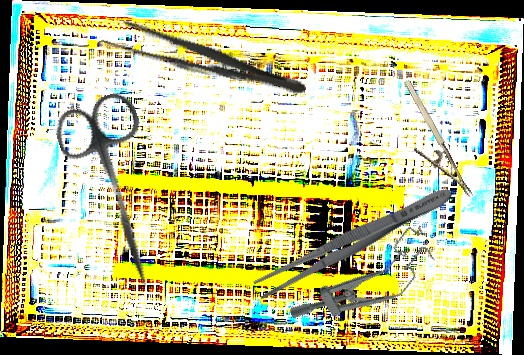Dressing Forceps: (250, 179, 458, 304), (99, 13, 311, 106)
Iris Scissors: (49, 88, 189, 299)
Needle Holder: (384, 77, 474, 211)
Speculum: (282, 221, 446, 348)
